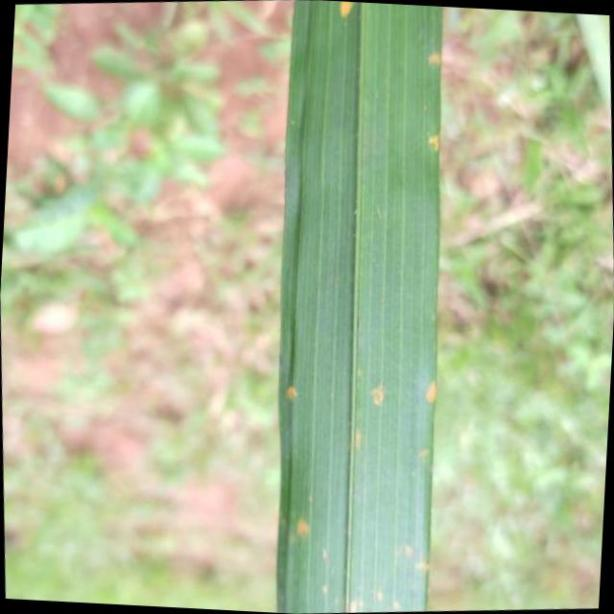Kalium: (275, 0, 437, 614)
